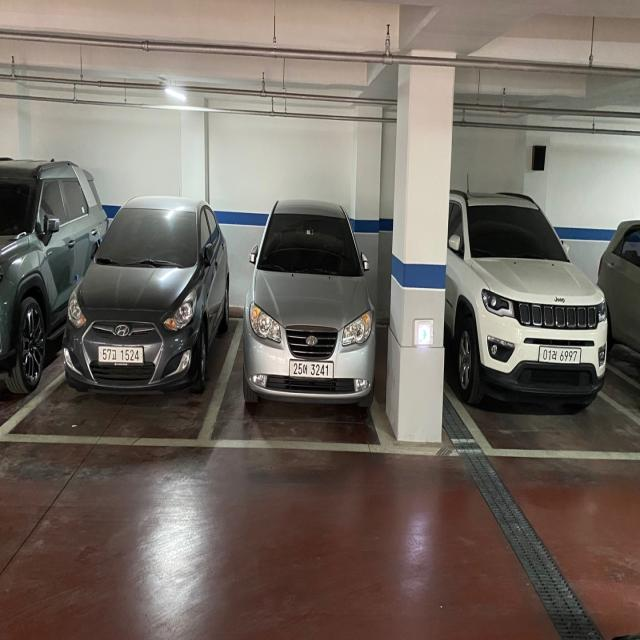occupied: (449, 191, 608, 404), (68, 195, 226, 401), (246, 196, 376, 413)
